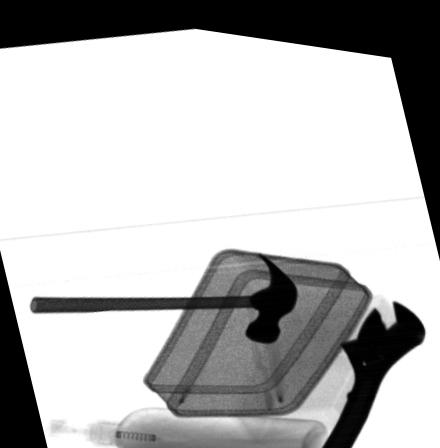Hammer: (28, 247, 298, 334)
Wrench: (315, 289, 425, 448)
